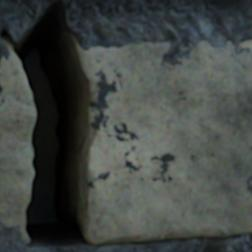broken_brick: (77, 41, 251, 244), (0, 49, 36, 233)
crack: (0, 2, 91, 250)
